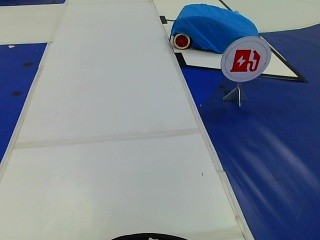battery: (225, 40, 268, 79)
car: (165, 1, 257, 51)
